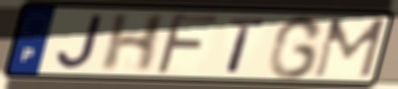F: (153, 11, 221, 76)
G: (265, 13, 326, 81)
H: (97, 13, 170, 74)
J: (55, 13, 106, 71)
M: (310, 17, 389, 80)
T: (225, 16, 267, 75)
